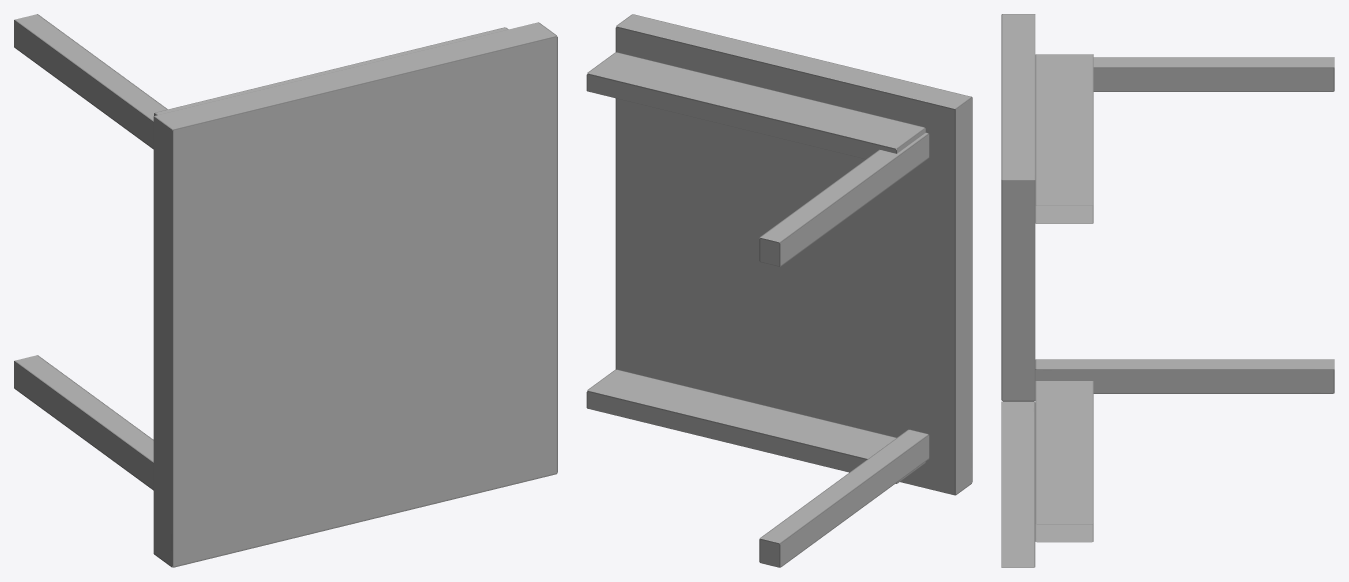
Rendered from pz_table_tables_high_01_large_plastic_0_0.obj.
3 renders of one model, left to right at view 1: azimuth 30°, elevation 25°; view 2: azimuth 150°, elevation 25°; view 3: azimuth 270°, elevation 25°, orthographic. The views are drawn at different scales.
Size of the model in its own units: 0.875 by 0.95 by 0.74.
1 material, 1 textured.
